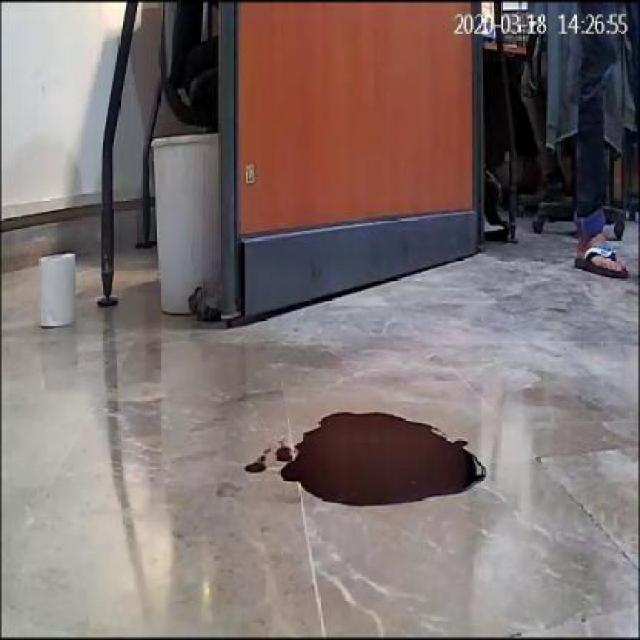spill: (277, 410, 488, 512)
